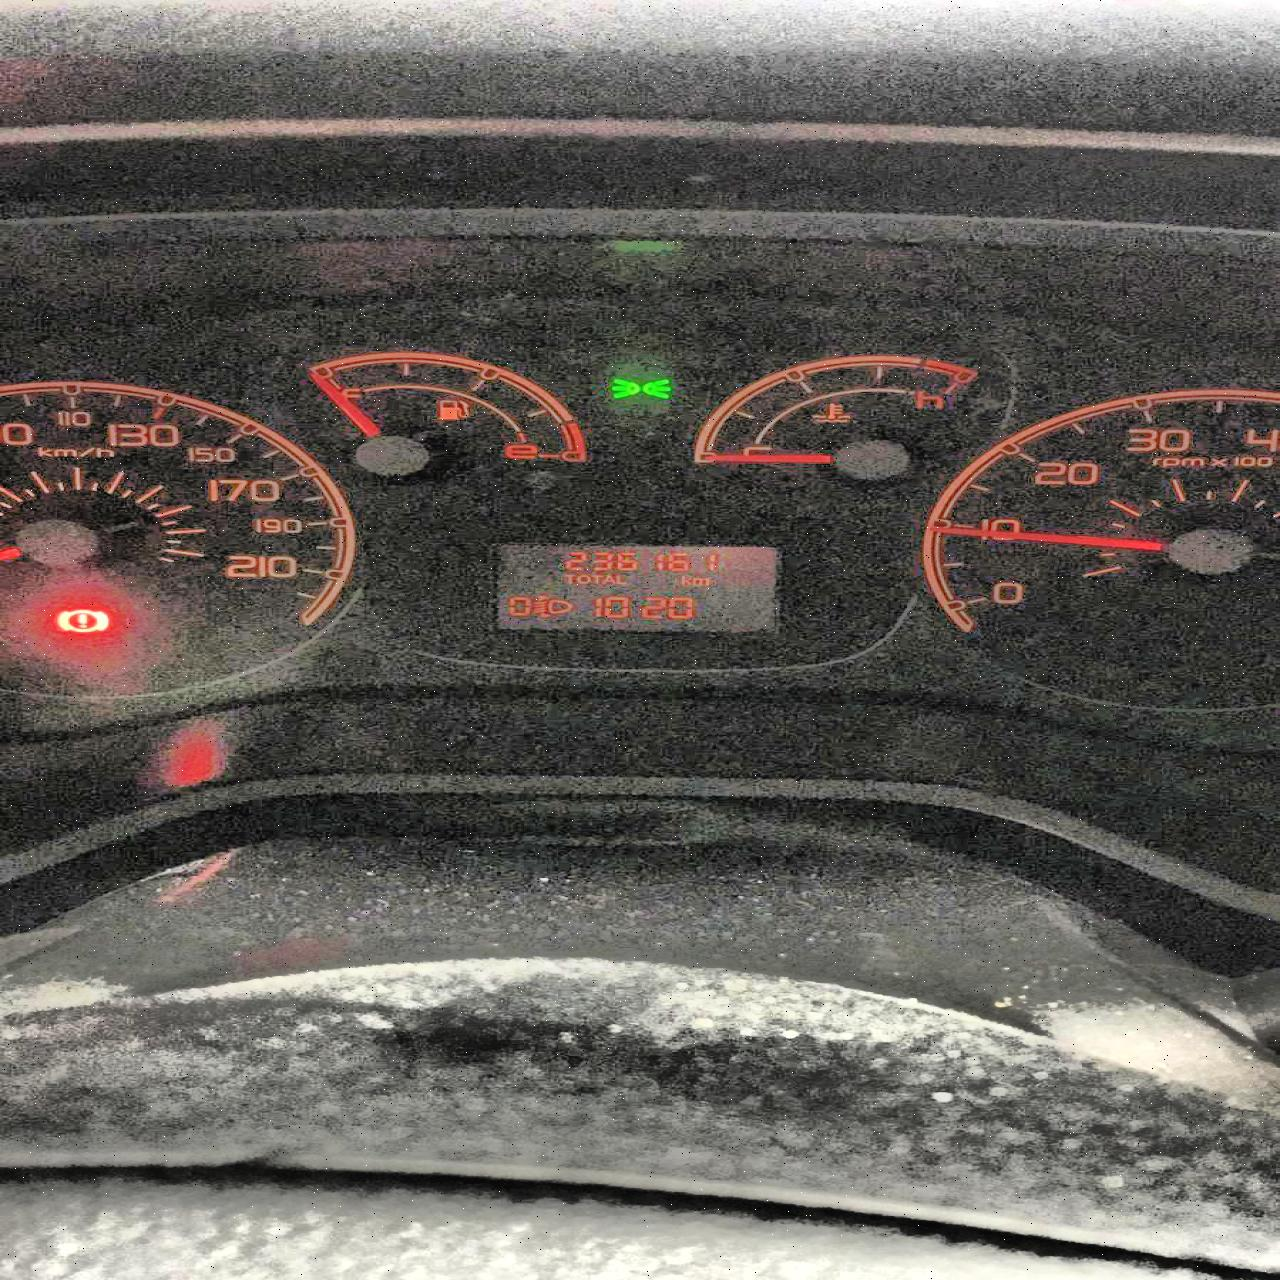0: (667, 595, 694, 619), (604, 595, 628, 619), (508, 595, 530, 617)
1: (707, 551, 717, 573), (592, 597, 602, 618), (654, 551, 663, 572)
2: (641, 594, 665, 619), (565, 550, 587, 571)
3: (591, 551, 614, 572)
6: (615, 551, 638, 572), (666, 552, 689, 571)
X: (692, 577, 712, 586), (576, 573, 591, 585), (615, 573, 628, 585), (602, 574, 614, 585), (591, 573, 602, 584), (563, 573, 573, 584), (681, 574, 690, 585)
odometer: (470, 538, 782, 639)
